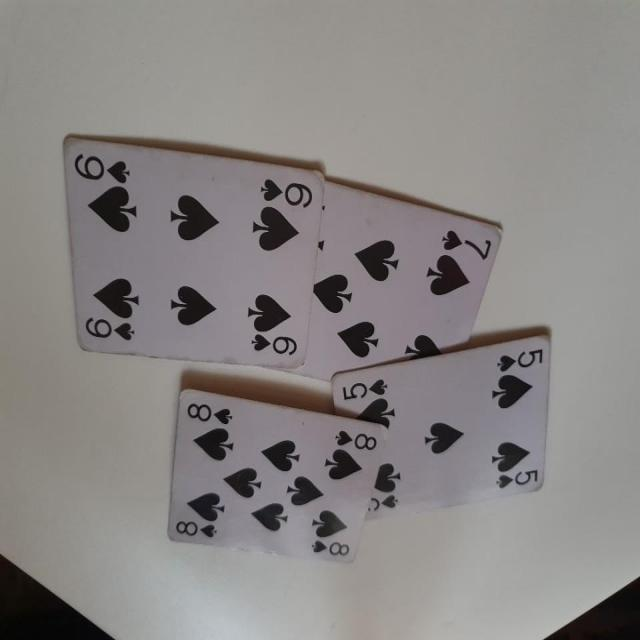5 of spades: (328, 326, 563, 535)
6 of spades: (55, 136, 324, 364)
7 of spades: (228, 204, 510, 388)
8 of spades: (153, 380, 390, 596)
